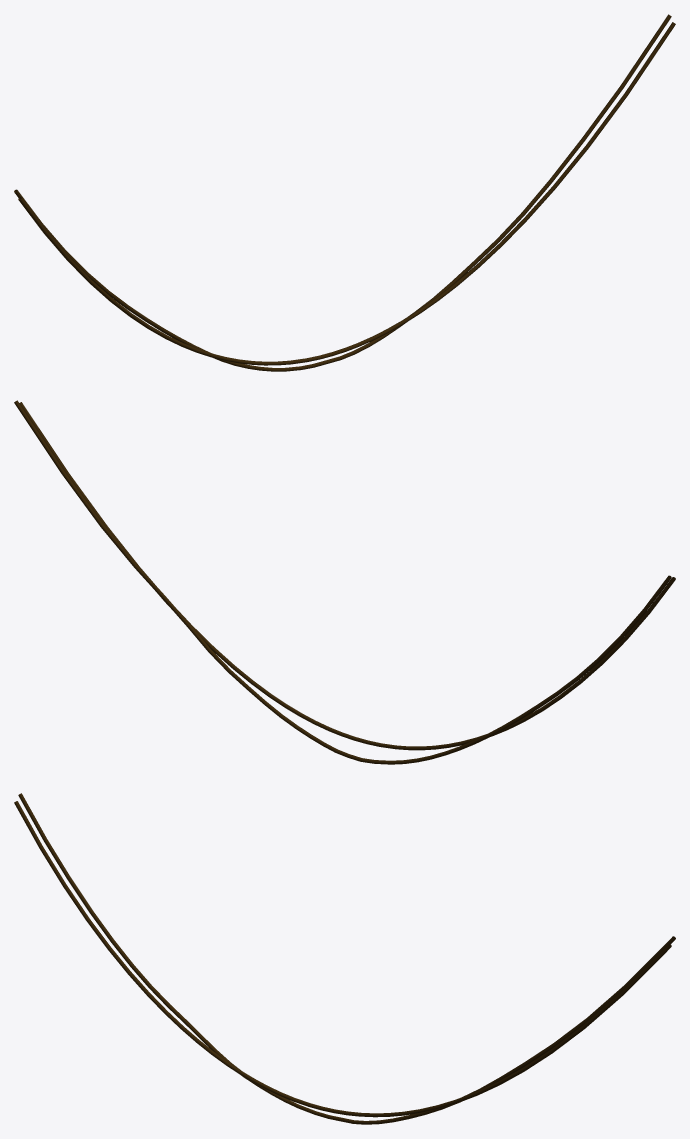
File: SM_Vines02.fbx
3 views of the same model, one above another, from view 1: azimuth 30°, elevation 25°; view 2: azimuth 150°, elevation 25°; view 3: azimuth 330°, elevation 25° (orthographic).
Parts seen in each view (by area): view 1: Vine02; view 2: Vine02; view 3: Vine02.
Part boxes in pixels (x1,y1,x2,y2): Vine02: (14, 14, 675, 371); Vine02: (14, 400, 675, 764); Vine02: (14, 793, 675, 1124).
Bounding box in the file's own units: 1462 × 45.31 × 578.
